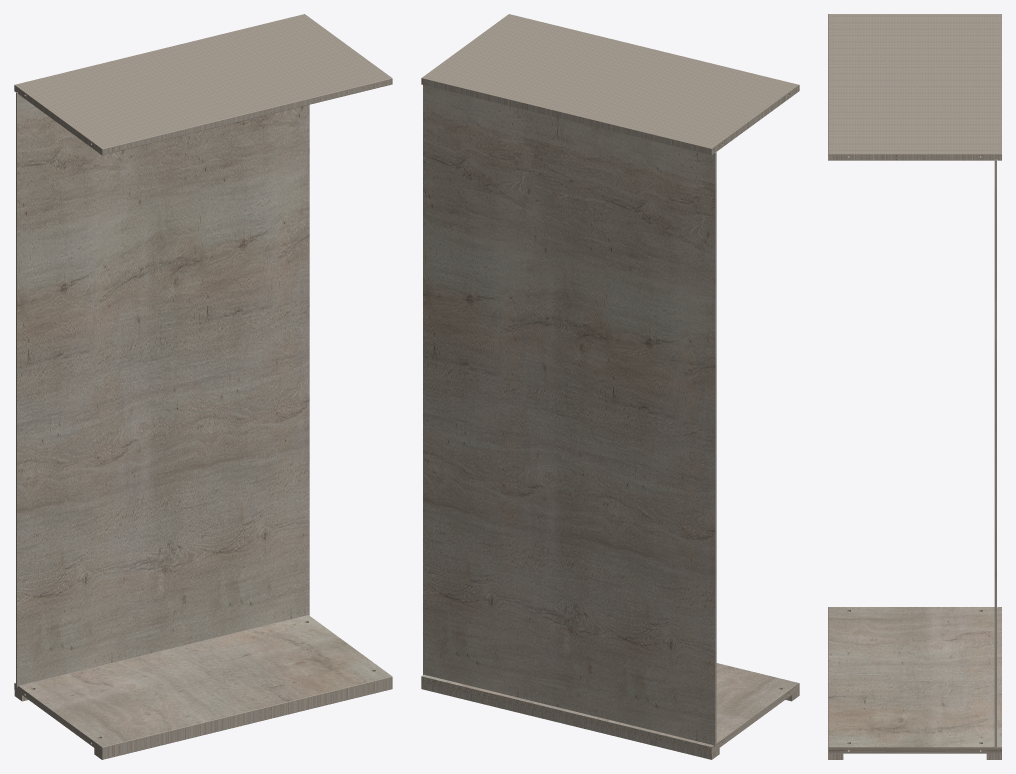
The picture shows the model from 3 angles, left to right: view 1: azimuth 30°, elevation 25°; view 2: azimuth 150°, elevation 25°; view 3: azimuth 270°, elevation 25°; orthographic projection.
Parts seen in each view (by area): view 1: Body6, Body5, Body4, Body3; view 2: Body6, Body5, Body4, Body1; view 3: Body5, Body4, Body6.
Boxes of the visible parts, x1=… form: Body6: x1=16, y1=92, x2=309, y2=687; Body5: x1=14, y1=14, x2=392, y2=155; Body4: x1=14, y1=615, x2=391, y2=753; Body3: x1=102, y1=676, x2=392, y2=759; Body6: x1=423, y1=85, x2=716, y2=746; Body5: x1=421, y1=14, x2=799, y2=155; Body4: x1=421, y1=663, x2=799, y2=753; Body1: x1=421, y1=683, x2=719, y2=759; Body5: x1=828, y1=14, x2=1001, y2=160; Body4: x1=828, y1=607, x2=1001, y2=753; Body6: x1=994, y1=159, x2=996, y2=748.
Bounding box in the file's own units: 1.19 × 2.38 × 0.62.
Materials: 2 (2 with a texture image).
